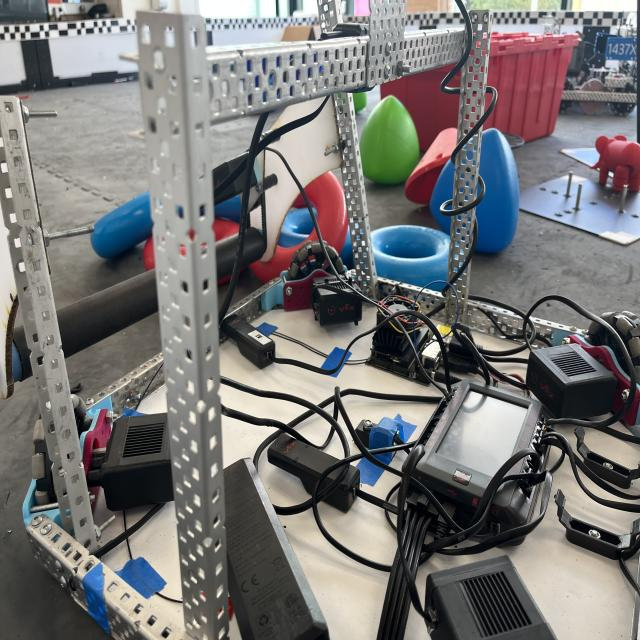Blue-Ring: (371, 225, 450, 287), (90, 192, 152, 258)
Red-Ring: (305, 172, 349, 253)
